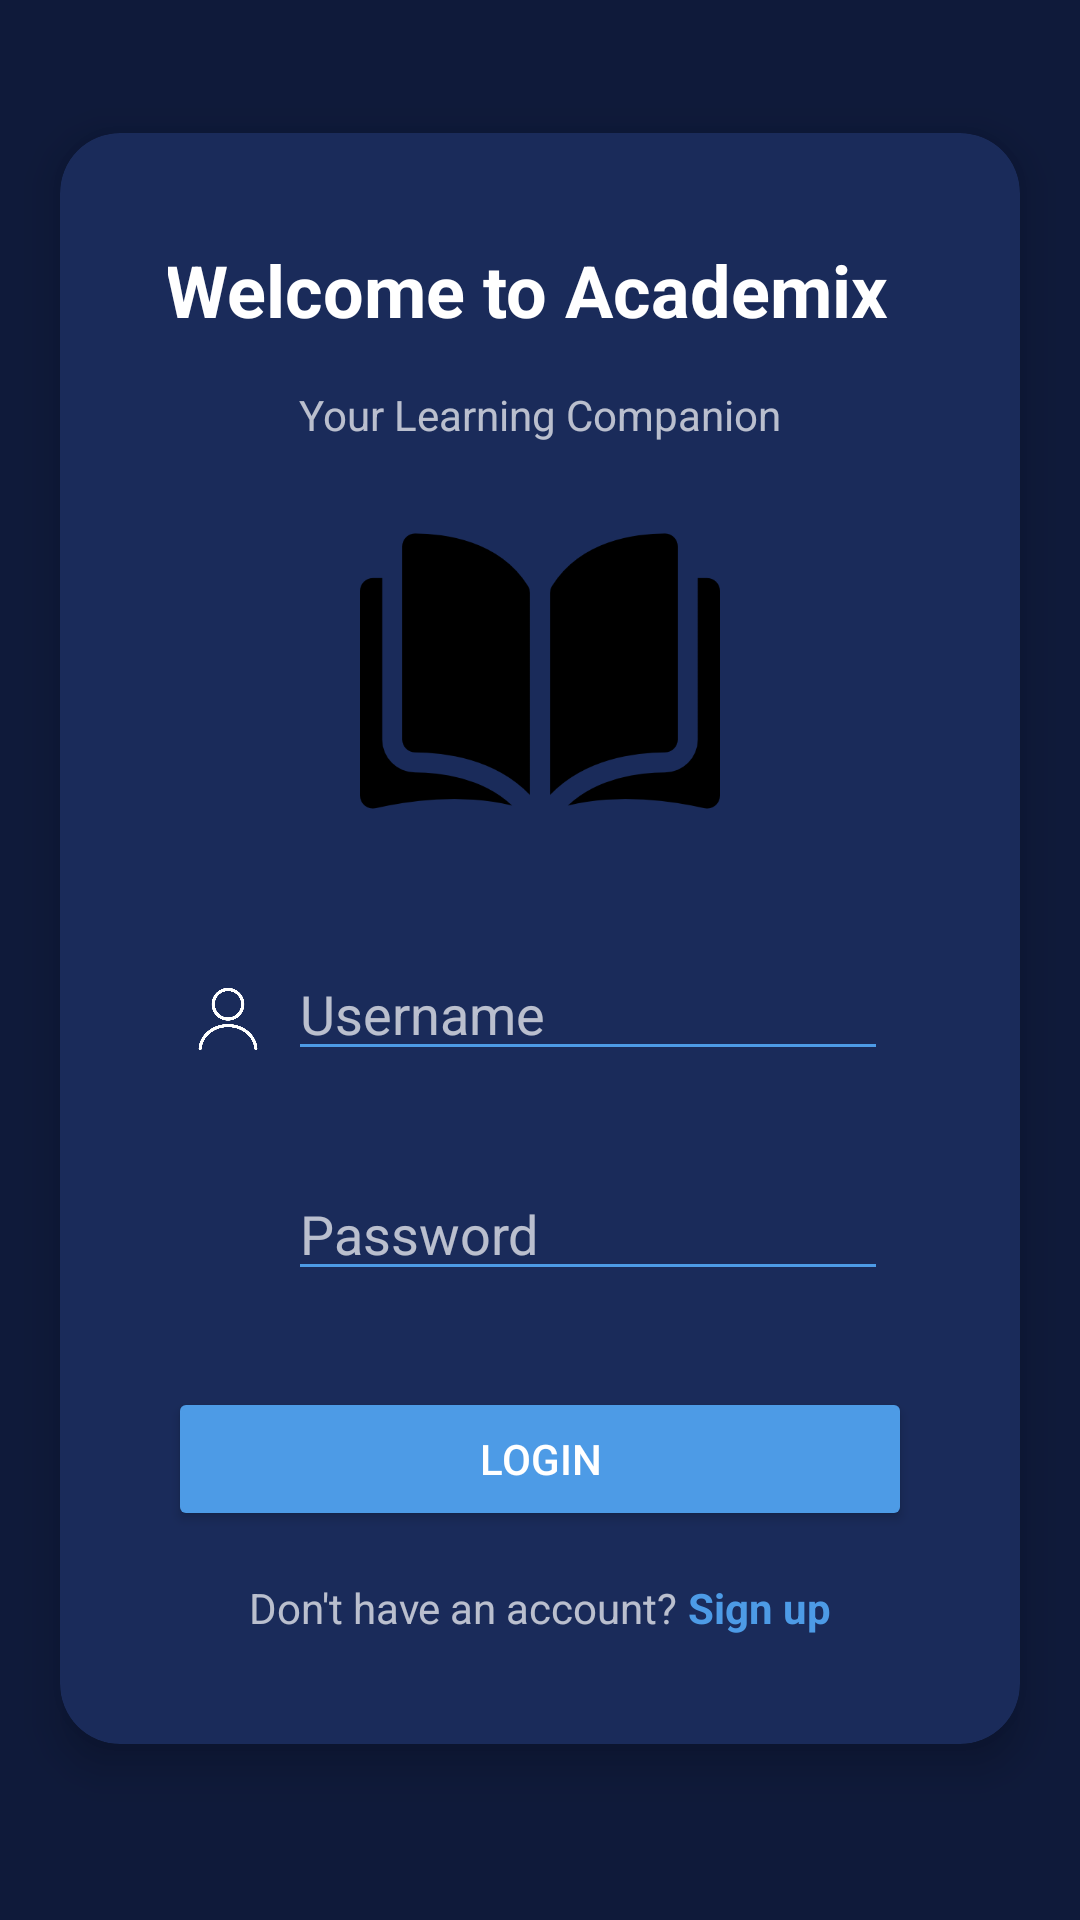

Screen size 1080w x 1920h. Icon name, then its box in pixels as (x1, y1, x2, y2):
academix user: (198, 988, 258, 1050)
